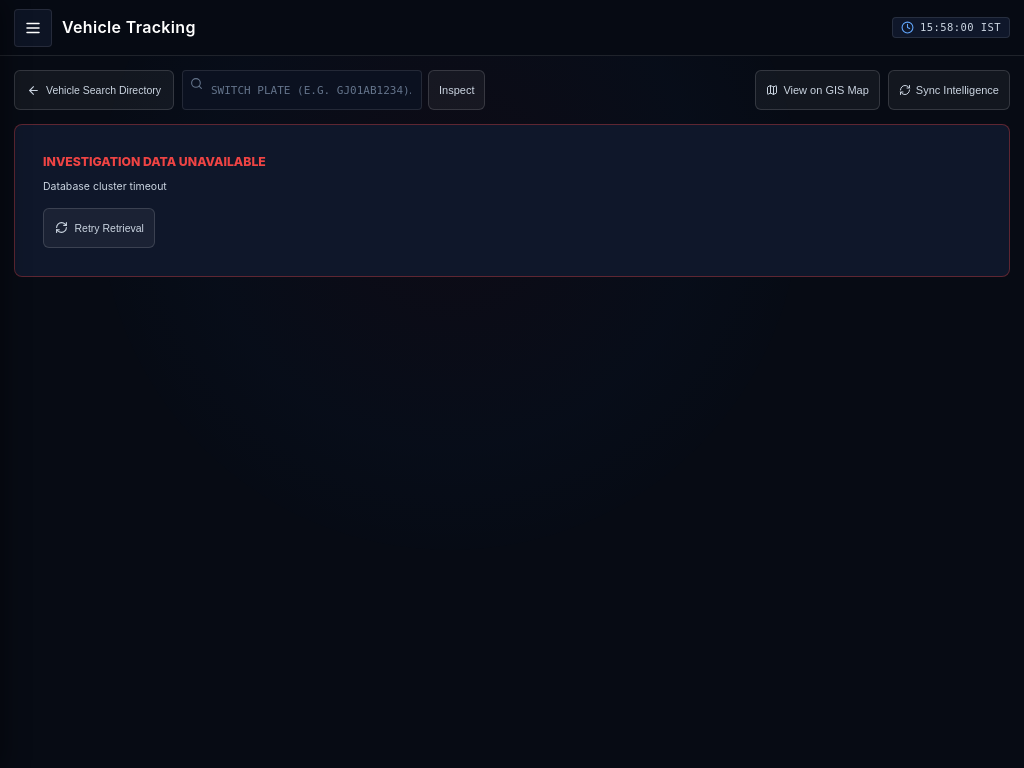
Scenario: Investigation Command Center Experience (Phase 8 Specification) › 11. Backend Failure: shows INVESTIGATION DATA UNAVAILABLE and allows retry
The width and height of the screenshot is (1024, 768).
expect the text "INVESTIGATION DATA UNAVAILABLE" is shown: met, box [43, 154, 266, 169]
expect the text "Database cluster timeout" is shown: met, box [43, 180, 167, 192]
Step 1. Click the button "Retry Retrieval" → (99, 228), box [43, 208, 155, 248]
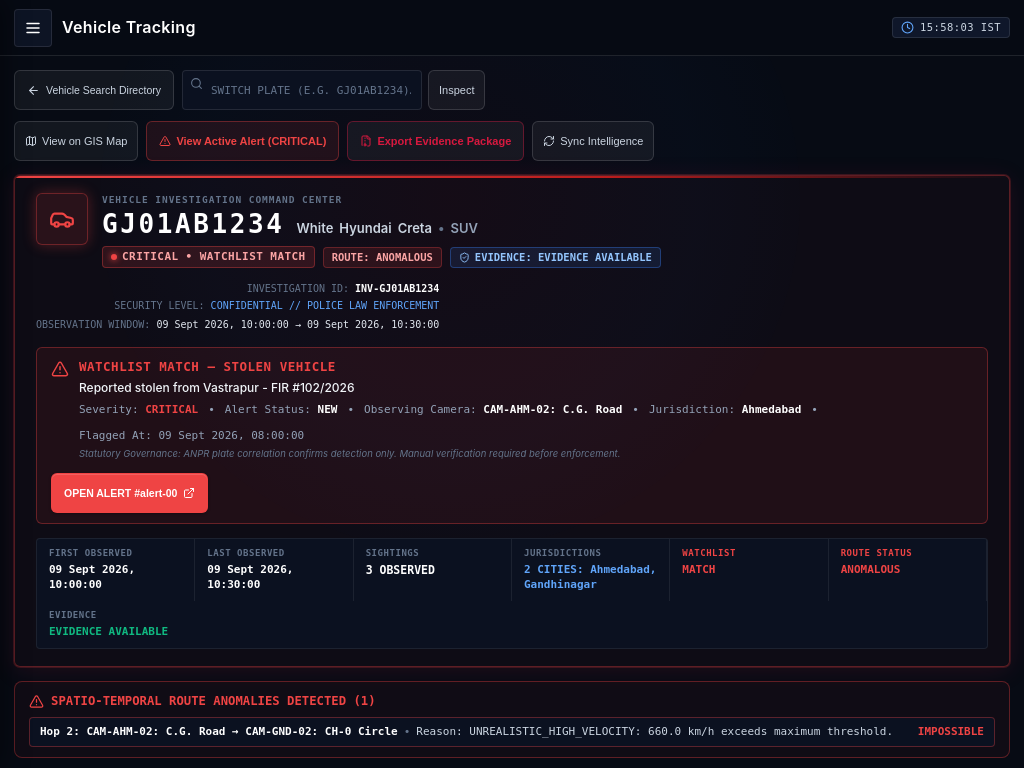
expect the heading "GJ01AB1234" is shown: met, box [102, 210, 284, 238]
